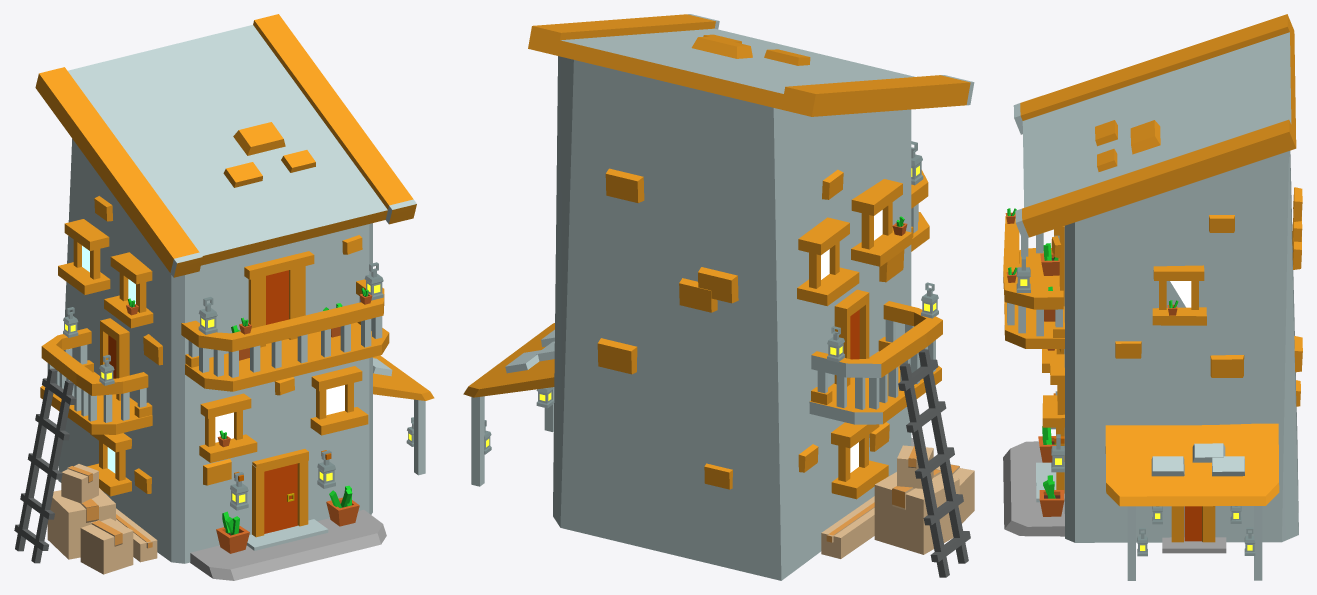
3 views of the same model, side by side, from view 1: azimuth 30°, elevation 25°; view 2: azimuth 150°, elevation 25°; view 3: azimuth 270°, elevation 25° (orthographic). The views are drawn at different scales.
Visible parts, largest first — view 1: Building_0, ladder_1, box.001_4, box_3, box.002_5, box.003_6, Cube.006_14, Cube.005_13, lamp.005_27; view 2: Building_0, ladder_1, box.001_4, box.003_6, box.002_5, box_3; view 3: Building_0, Cube.005_13, Cube.010_18, Cube.006_14, lamp.004_26, lamp_22.
Boxes of the visible parts, x1=… form: Building_0: x1=35, y1=14, x2=434, y2=580; ladder_1: x1=14, y1=368, x2=76, y2=563; box.001_4: x1=47, y1=488, x2=115, y2=559; box_3: x1=80, y1=518, x2=133, y2=574; box.002_5: x1=61, y1=464, x2=98, y2=503; box.003_6: x1=116, y1=508, x2=157, y2=562; Cube.006_14: x1=216, y1=511, x2=249, y2=553; Cube.005_13: x1=326, y1=485, x2=359, y2=526; lamp.005_27: x1=198, y1=297, x2=217, y2=334; Building_0: x1=463, y1=14, x2=974, y2=580; ladder_1: x1=898, y1=349, x2=970, y2=577; box.001_4: x1=874, y1=469, x2=959, y2=554; box.003_6: x1=821, y1=496, x2=874, y2=558; box.002_5: x1=897, y1=445, x2=933, y2=488; box_3: x1=936, y1=464, x2=974, y2=523; Building_0: x1=1003, y1=14, x2=1302, y2=580; Cube.005_13: x1=1039, y1=475, x2=1064, y2=516; Cube.010_18: x1=1040, y1=243, x2=1059, y2=275; Cube.006_14: x1=1038, y1=426, x2=1055, y2=462; lamp.004_26: x1=1016, y1=255, x2=1030, y2=292; lamp_22: x1=1051, y1=434, x2=1064, y2=472.
Size of the model in its own units: 11.67 by 12.59 by 7.97.
